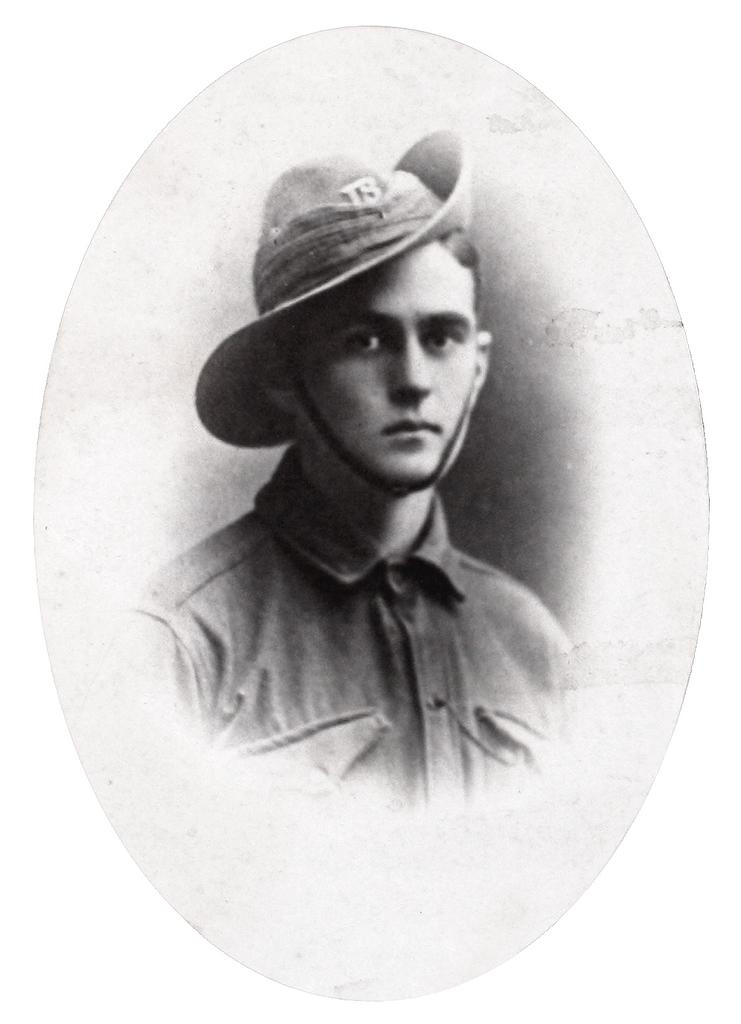Hat: (193, 127, 475, 494)
